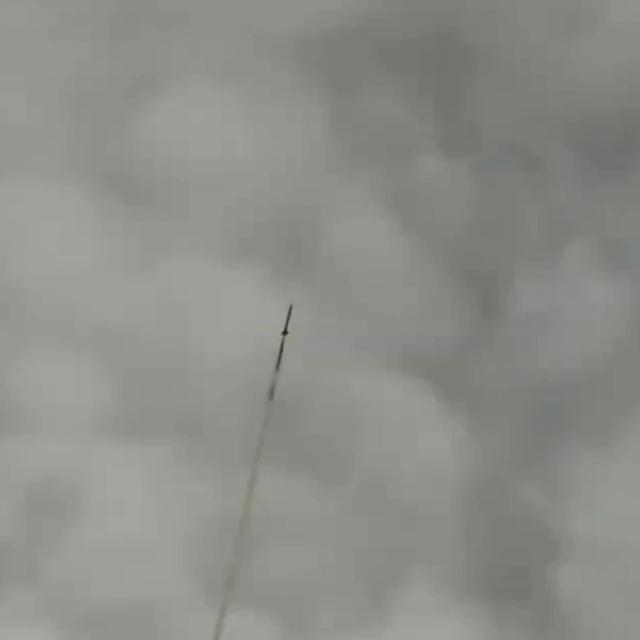smoke_trail_with_rocket: (210, 304, 294, 640)
